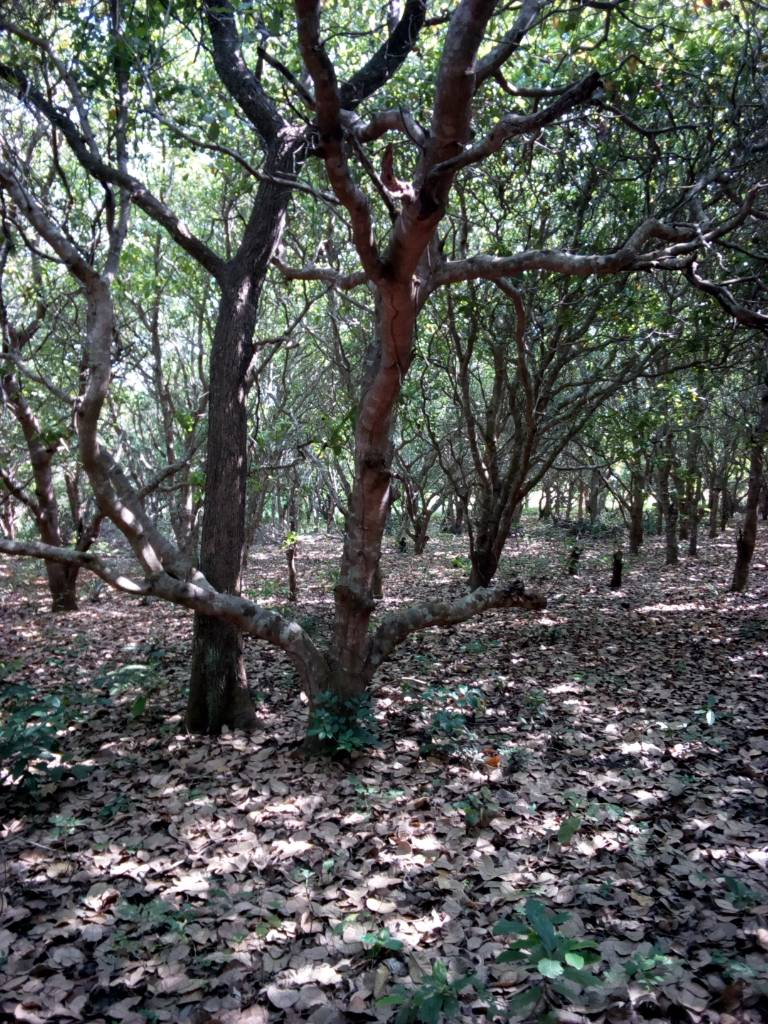Termites: (347, 211, 421, 563), (335, 611, 368, 667)
